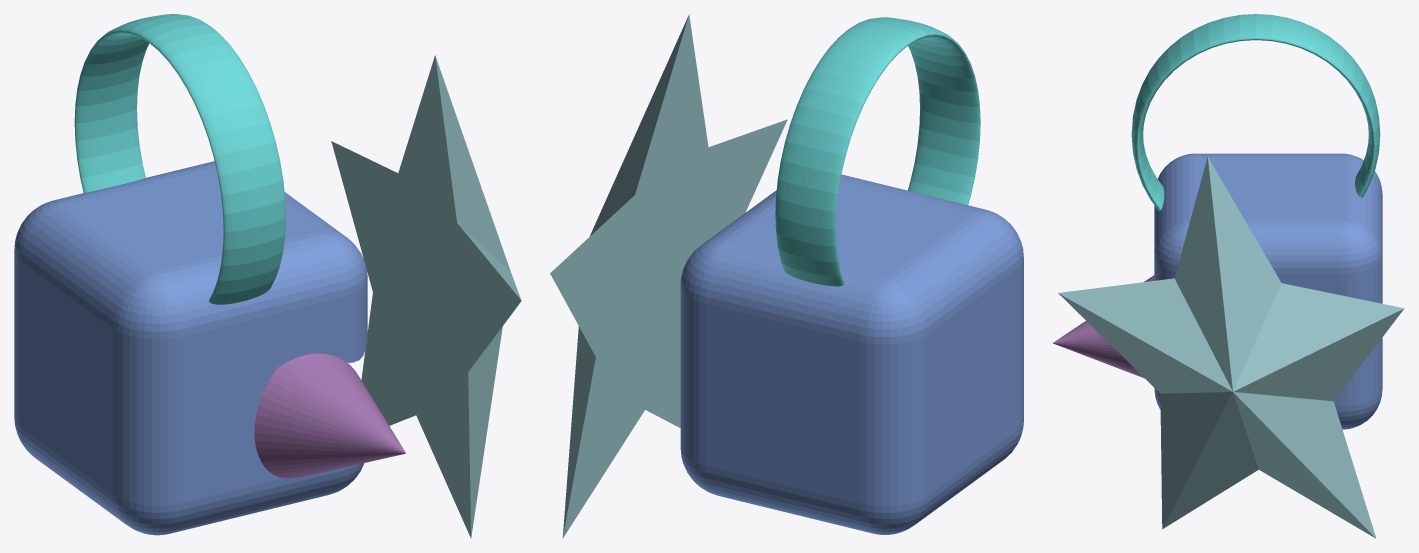
Rendered from Daring Amur.glb.
3 views of the same model, side by side, from view 1: azimuth 30°, elevation 25°; view 2: azimuth 150°, elevation 25°; view 3: azimuth 270°, elevation 25° (orthographic). The views are drawn at different scales.
Parts seen in each view (by area): view 1: Mesh_Mesh_head_geo.001_lambert2SG.001; view 2: Mesh_Mesh_head_geo.001_lambert2SG.001; view 3: Mesh_Mesh_head_geo.001_lambert2SG.001.
Boxes of the visible parts, x1,y1,x2,y2 form: Mesh_Mesh_head_geo.001_lambert2SG.001: [14, 14, 521, 538]; Mesh_Mesh_head_geo.001_lambert2SG.001: [550, 14, 1023, 538]; Mesh_Mesh_head_geo.001_lambert2SG.001: [1053, 14, 1404, 538].
Bounding box in the file's own units: 0.034 × 0.0407 × 0.0309.
